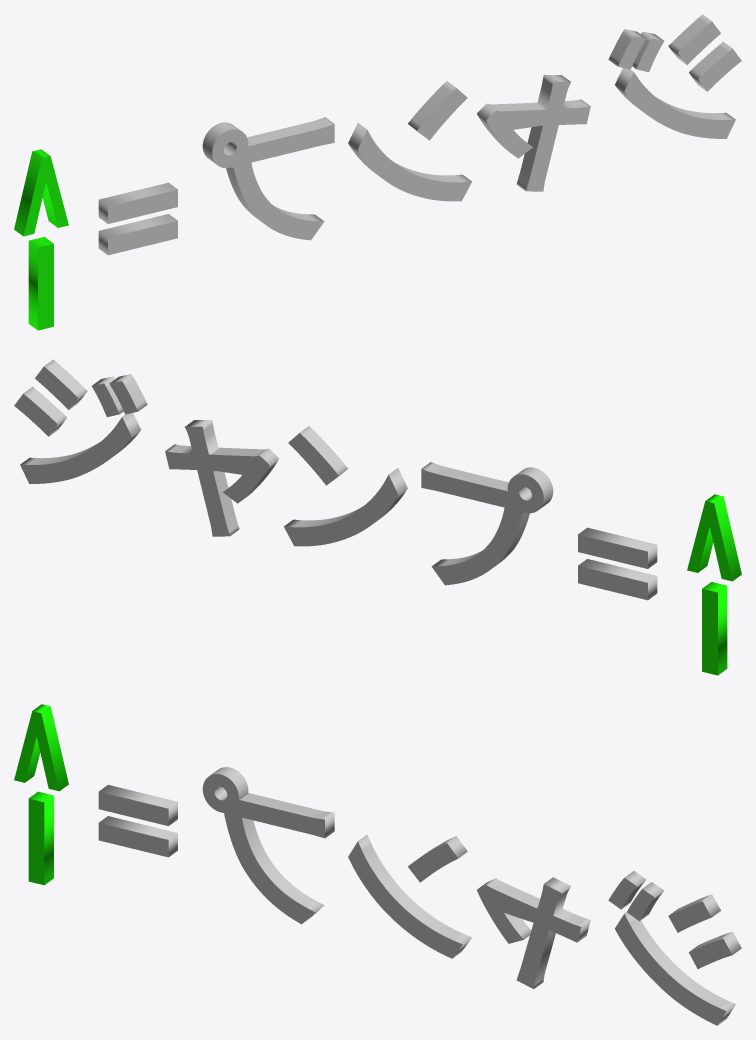
3 views of the same model, one above another, from view 1: azimuth 30°, elevation 25°; view 2: azimuth 150°, elevation 25°; view 3: azimuth 330°, elevation 25° (orthographic).
Visible parts, largest first — view 1: Text, Text.003, Text.001, Text.002, Text.004, Text.006, Text.005; view 2: Text, Text.003, Text.001, Text.002, Text.004, Text.006, Text.005; view 3: Text.003, Text, Text.001, Text.002, Text.004, Text.006, Text.005.
Part boxes in pixels (left/top/right/bottom): Text: left=608, top=14, right=741, bottom=138; Text.003: left=202, top=117, right=334, bottom=240; Text.001: left=477, top=74, right=590, bottom=191; Text.002: left=348, top=81, right=472, bottom=201; Text.004: left=98, top=182, right=177, bottom=255; Text.006: left=14, top=149, right=68, bottom=236; Text.005: left=28, top=237, right=53, bottom=330; Text: left=14, top=359, right=147, bottom=483; Text.003: left=421, top=462, right=553, bottom=585; Text.001: left=165, top=419, right=278, bottom=536; Text.002: left=283, top=426, right=407, bottom=546; Text.004: left=578, top=527, right=657, bottom=600; Text.006: left=687, top=494, right=741, bottom=581; Text.005: left=702, top=582, right=727, bottom=675; Text.003: left=202, top=767, right=334, bottom=924; Text: left=608, top=871, right=741, bottom=1025; Text.001: left=477, top=877, right=590, bottom=988; Text.002: left=348, top=834, right=471, bottom=958; Text.004: left=98, top=785, right=177, bottom=857; Text.006: left=14, top=704, right=68, bottom=791; Text.005: left=28, top=791, right=53, bottom=885.
Bounding box in the file's own units: 5.25 × 1.2 × 0.12.
